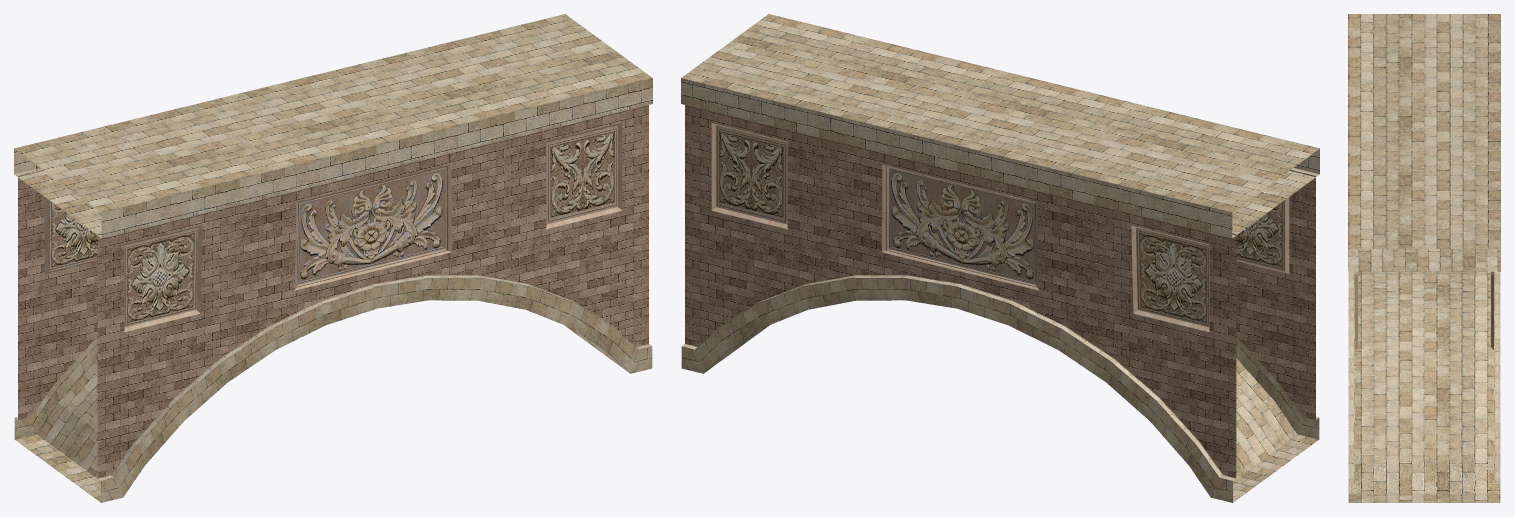
Rendered from thm_nboo_imprv_archway_narrow_s01_l0.fbx.
3 renders of one model, left to right at view 1: azimuth 30°, elevation 25°; view 2: azimuth 150°, elevation 25°; view 3: azimuth 270°, elevation 25°, orthographic. The views are drawn at different scales.
Visible parts, largest first — view 1: mesh_node; view 2: mesh_node; view 3: mesh_node.
Boxes of the visible parts, x1,y1,x2,y2 form: mesh_node: (14,14,652,502); mesh_node: (681,14,1319,502); mesh_node: (1348,14,1500,502).
Bounding box in the file's own units: 4 × 2.02 × 1.1.
3 materials, 3 textured.
